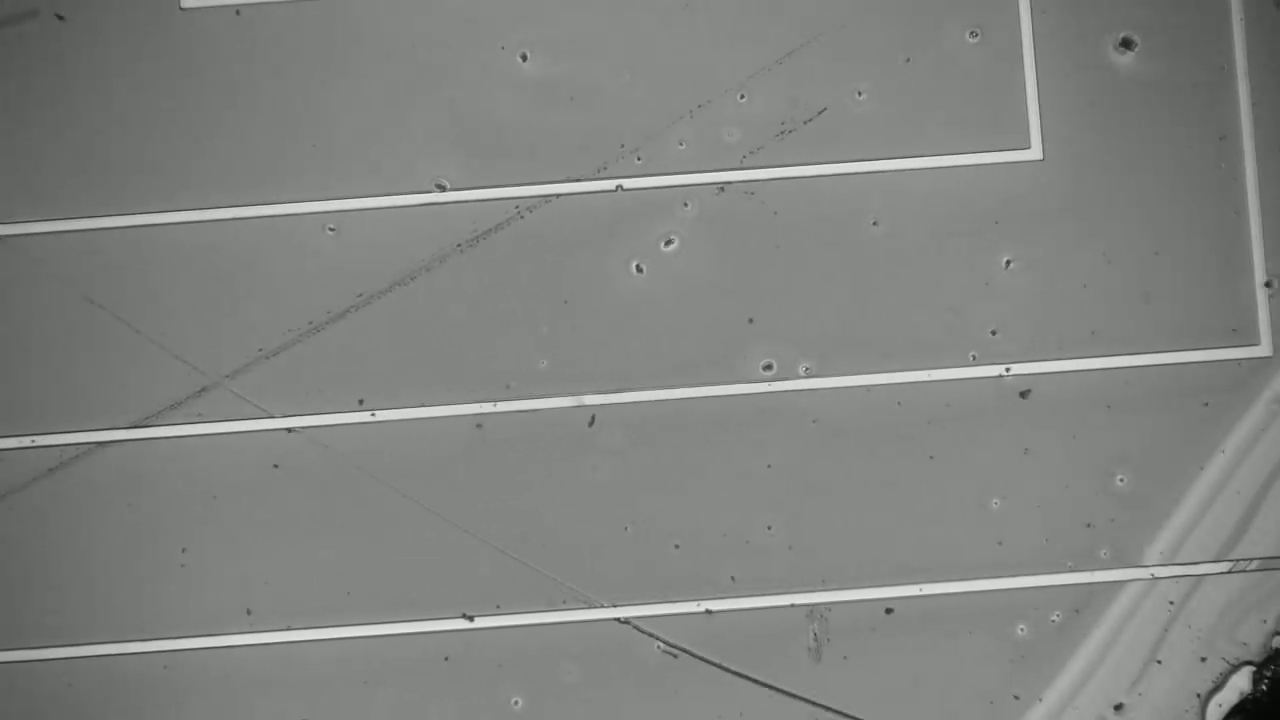edge_bite: (607, 174, 631, 196)
gray_line: (1207, 549, 1280, 586)
scratch: (2, 43, 804, 506), (84, 299, 600, 604), (625, 613, 863, 718)
stains_enbedded: (452, 610, 487, 636)
